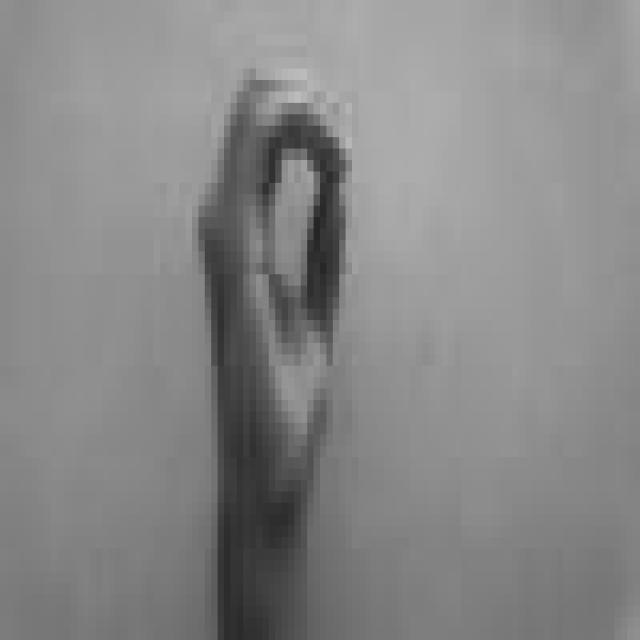O: (182, 40, 356, 520)
